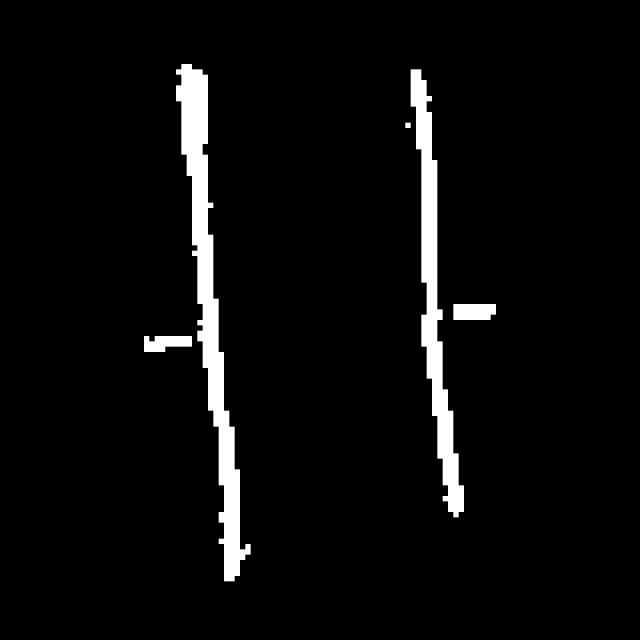capacitor: (167, 54, 474, 600)
